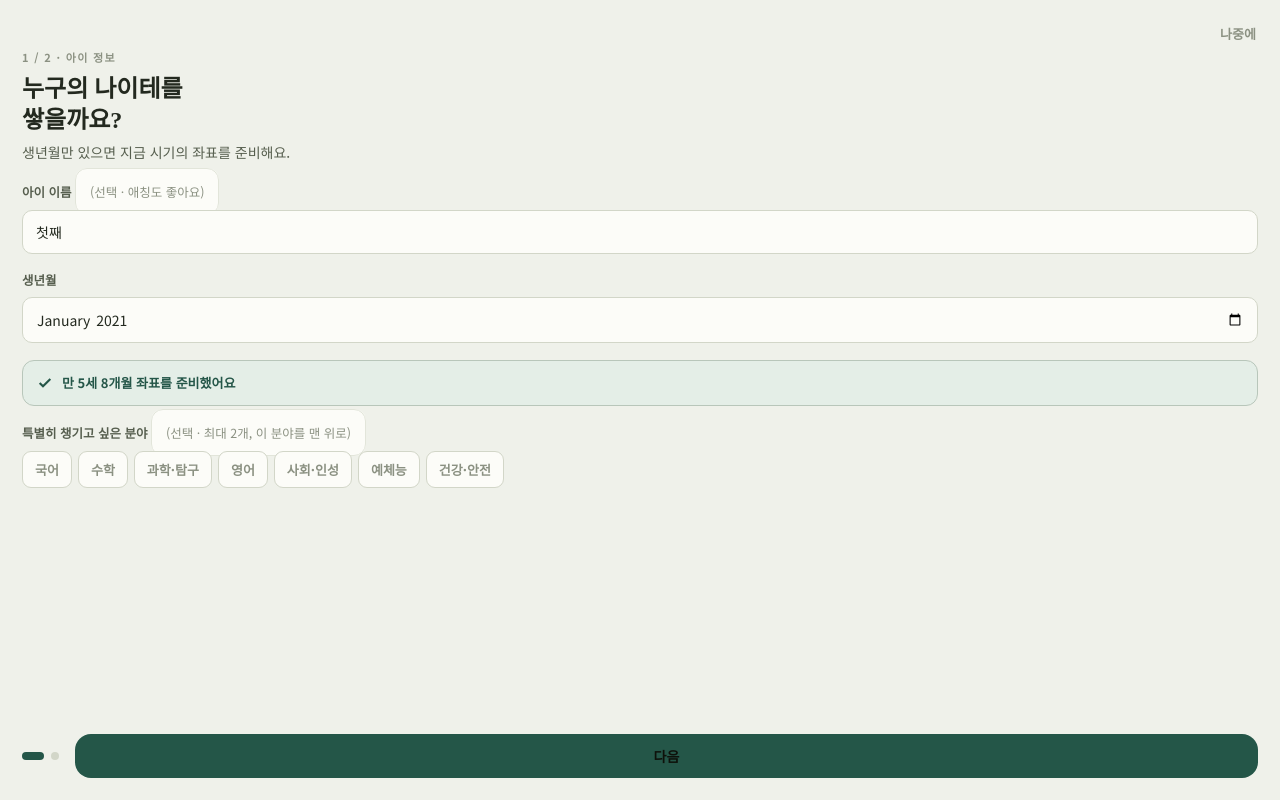
it: S2 기관 등원 1탭 (§06-A 통찰-먼저) › 초1~2 band 는 "학교"로 묻는다
Click the button "다음": (666,756) x1=75 y1=734 x2=1258 y2=778
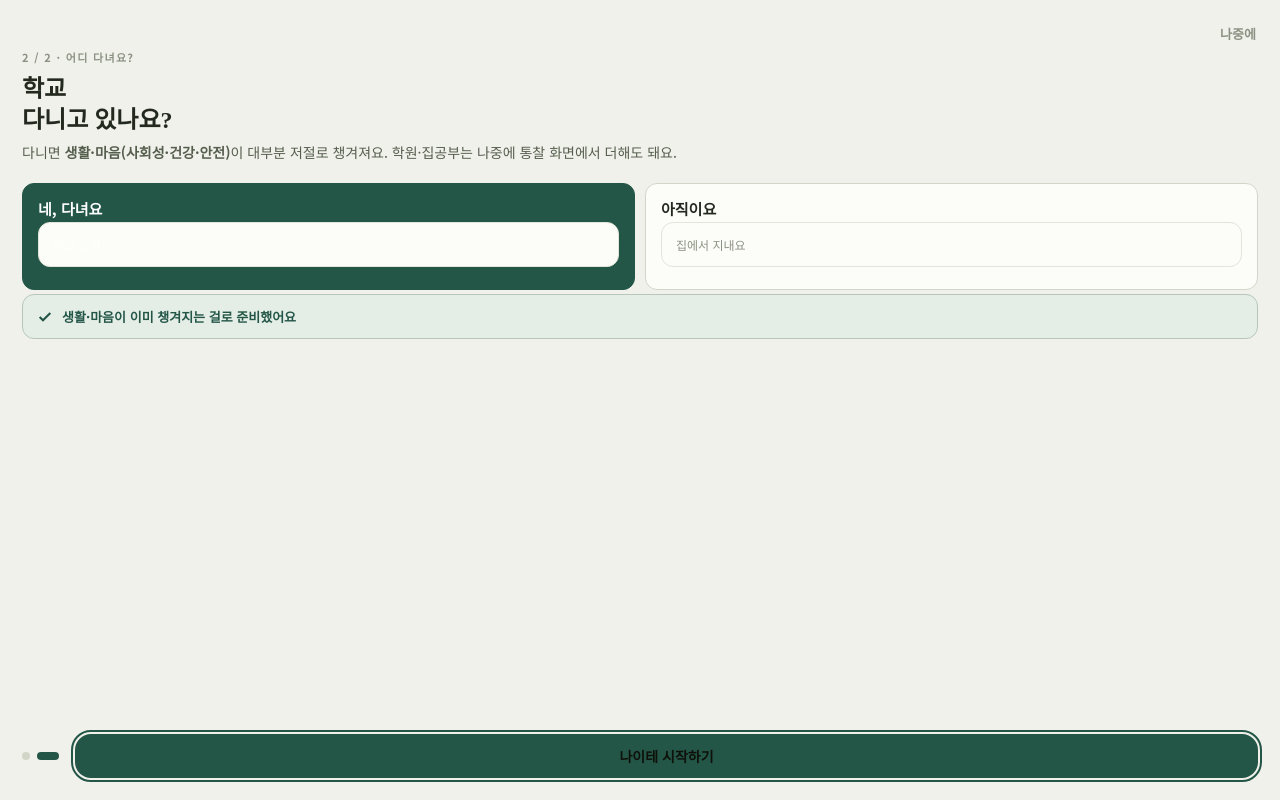
Result: the text "학교 등원" is shown at x1=38 y1=222 x2=619 y2=267
